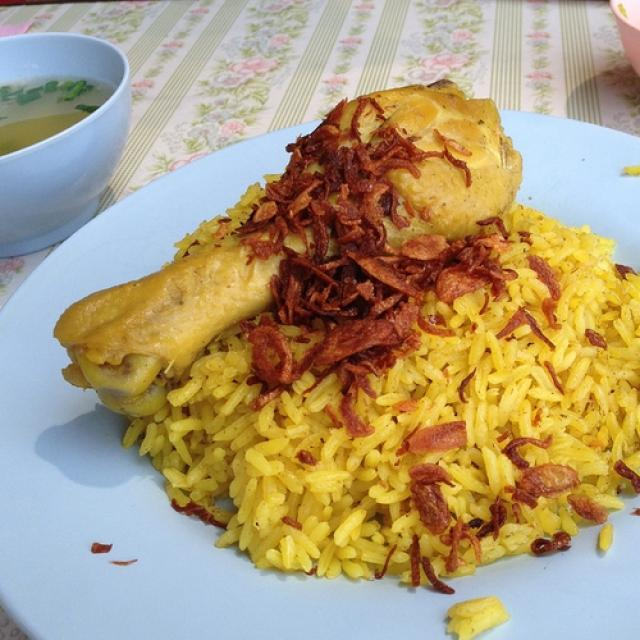米饭主食: (30, 28, 628, 611)
